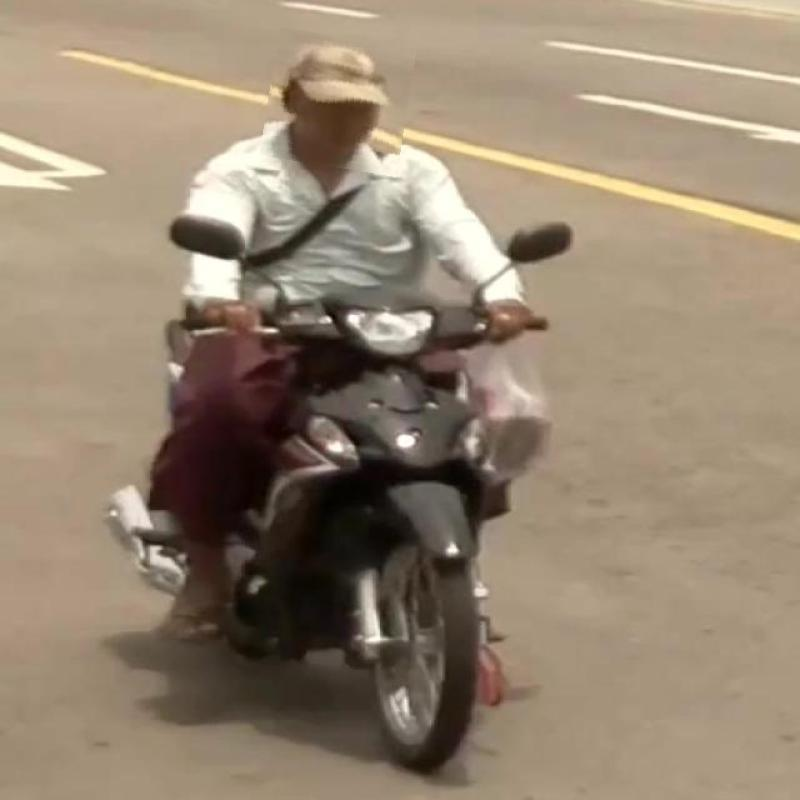nohelmet: (264, 32, 412, 172)
